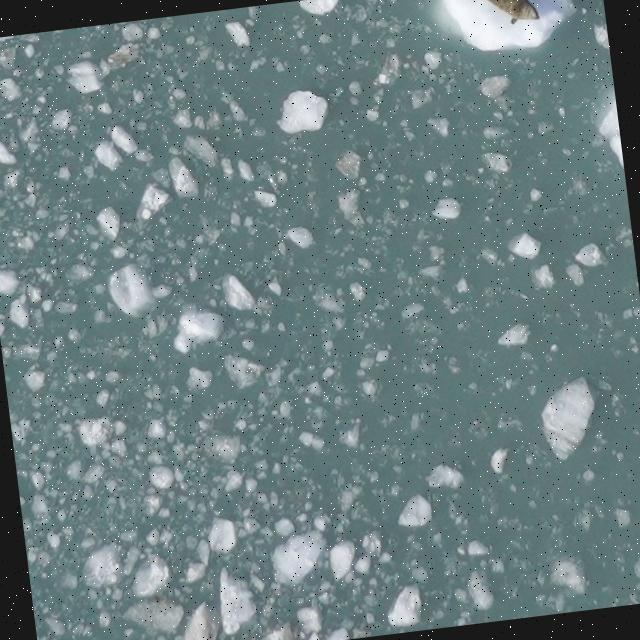seal: (464, 0, 546, 31)
